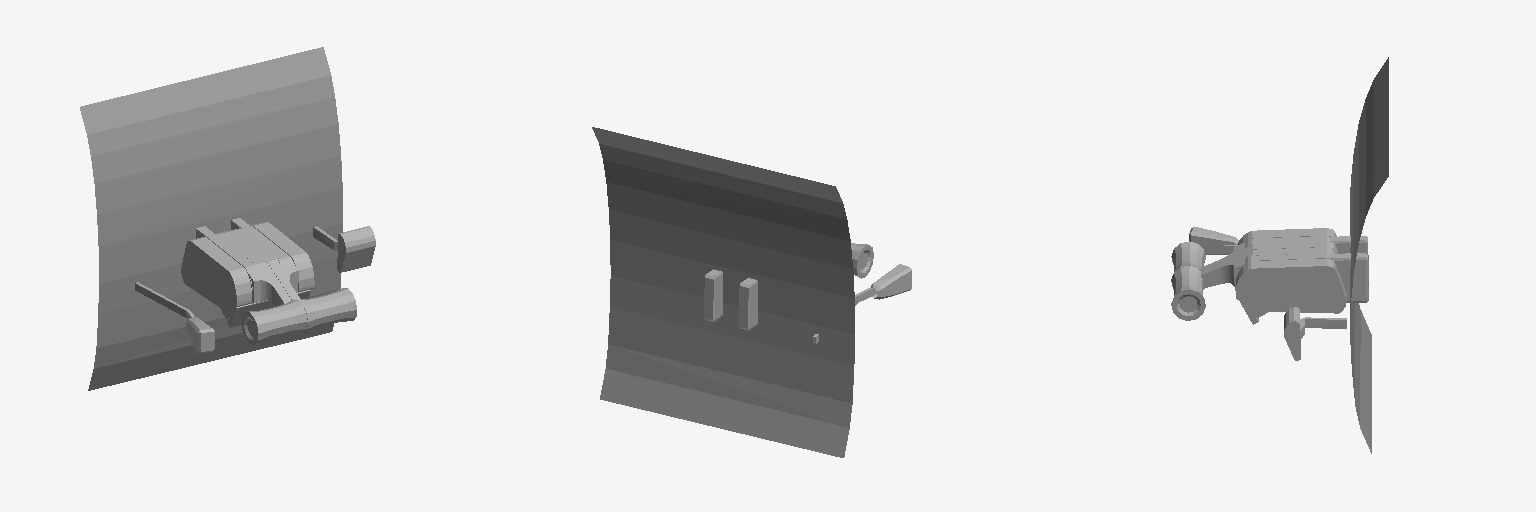
The model's file is pedestal.blender.obj.
The picture shows the model from 3 angles: view 1: azimuth 30°, elevation 25°; view 2: azimuth 150°, elevation 25°; view 3: azimuth 270°, elevation 25°; orthographic projection.
Visible parts, largest first — view 1: Base, Throttle_LHThrottle, Flaps_FlapLever, SpeedBrake_SpdBrkLever; view 2: Base, Throttle_LHThrottle, SpeedBrake_SpdBrkLever; view 3: Throttle_LHThrottle, Base, Flaps_FlapLever, SpeedBrake_SpdBrkLever.
Boxes of the visible parts, x1,y1,x2,y2 form: Base: [80, 47, 342, 390]; Throttle_LHThrottle: [181, 218, 356, 344]; Flaps_FlapLever: [313, 226, 375, 272]; SpeedBrake_SpdBrkLever: [135, 282, 214, 352]; Base: [592, 127, 854, 457]; Throttle_LHThrottle: [704, 243, 873, 330]; SpeedBrake_SpdBrkLever: [813, 264, 911, 343]; Throttle_LHThrottle: [1171, 228, 1368, 324]; Base: [1350, 57, 1388, 453]; Flaps_FlapLever: [1284, 307, 1346, 360]; SpeedBrake_SpdBrkLever: [1189, 227, 1238, 254].
Size of the model in its own units: 3.05 by 3.33 by 2.35.